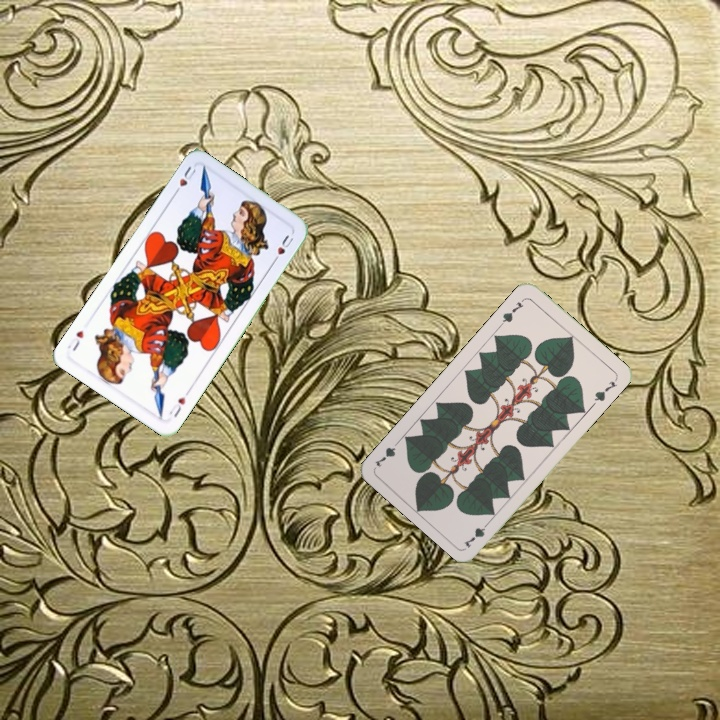G7: (460, 516, 494, 550), (497, 295, 527, 328)
HU: (170, 161, 199, 198), (165, 386, 192, 420)
